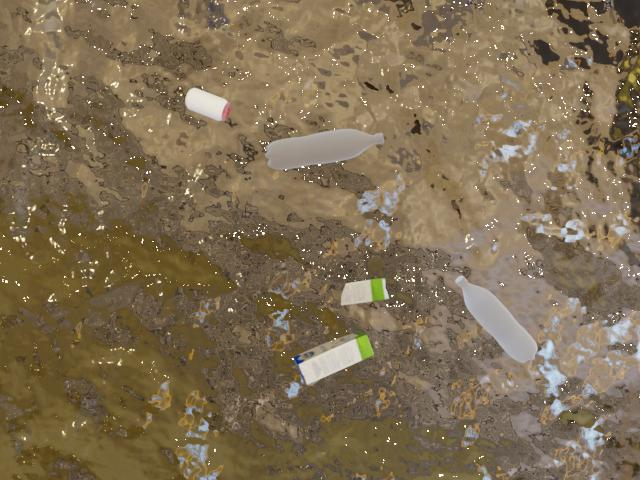Metal: (179, 75, 232, 130)
Plastic: (438, 263, 541, 379), (263, 126, 390, 181)
Trash: (279, 329, 396, 393), (314, 265, 400, 309)
